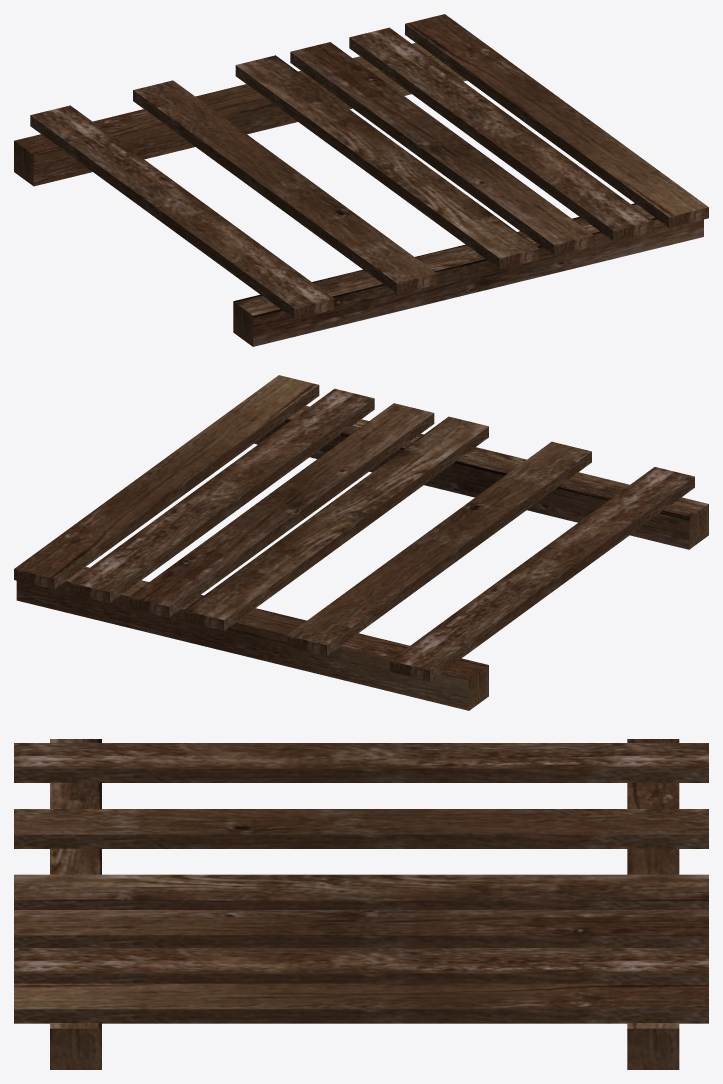
Rendered from PalletA.fbx.
3 renders of one model, top to bottom at view 1: azimuth 30°, elevation 25°; view 2: azimuth 150°, elevation 25°; view 3: azimuth 270°, elevation 25°, orthographic. The views are drawn at different scales.
Parts seen in each view (by area): view 1: PalletA; view 2: PalletA; view 3: PalletA.
Boxes of the visible parts, <box> form: PalletA: <box>14,14,708,346</box>; PalletA: <box>14,375,708,710</box>; PalletA: <box>14,739,708,1069</box>.
Size of the model in its own units: 93.7 by 8.3 by 95.01.
